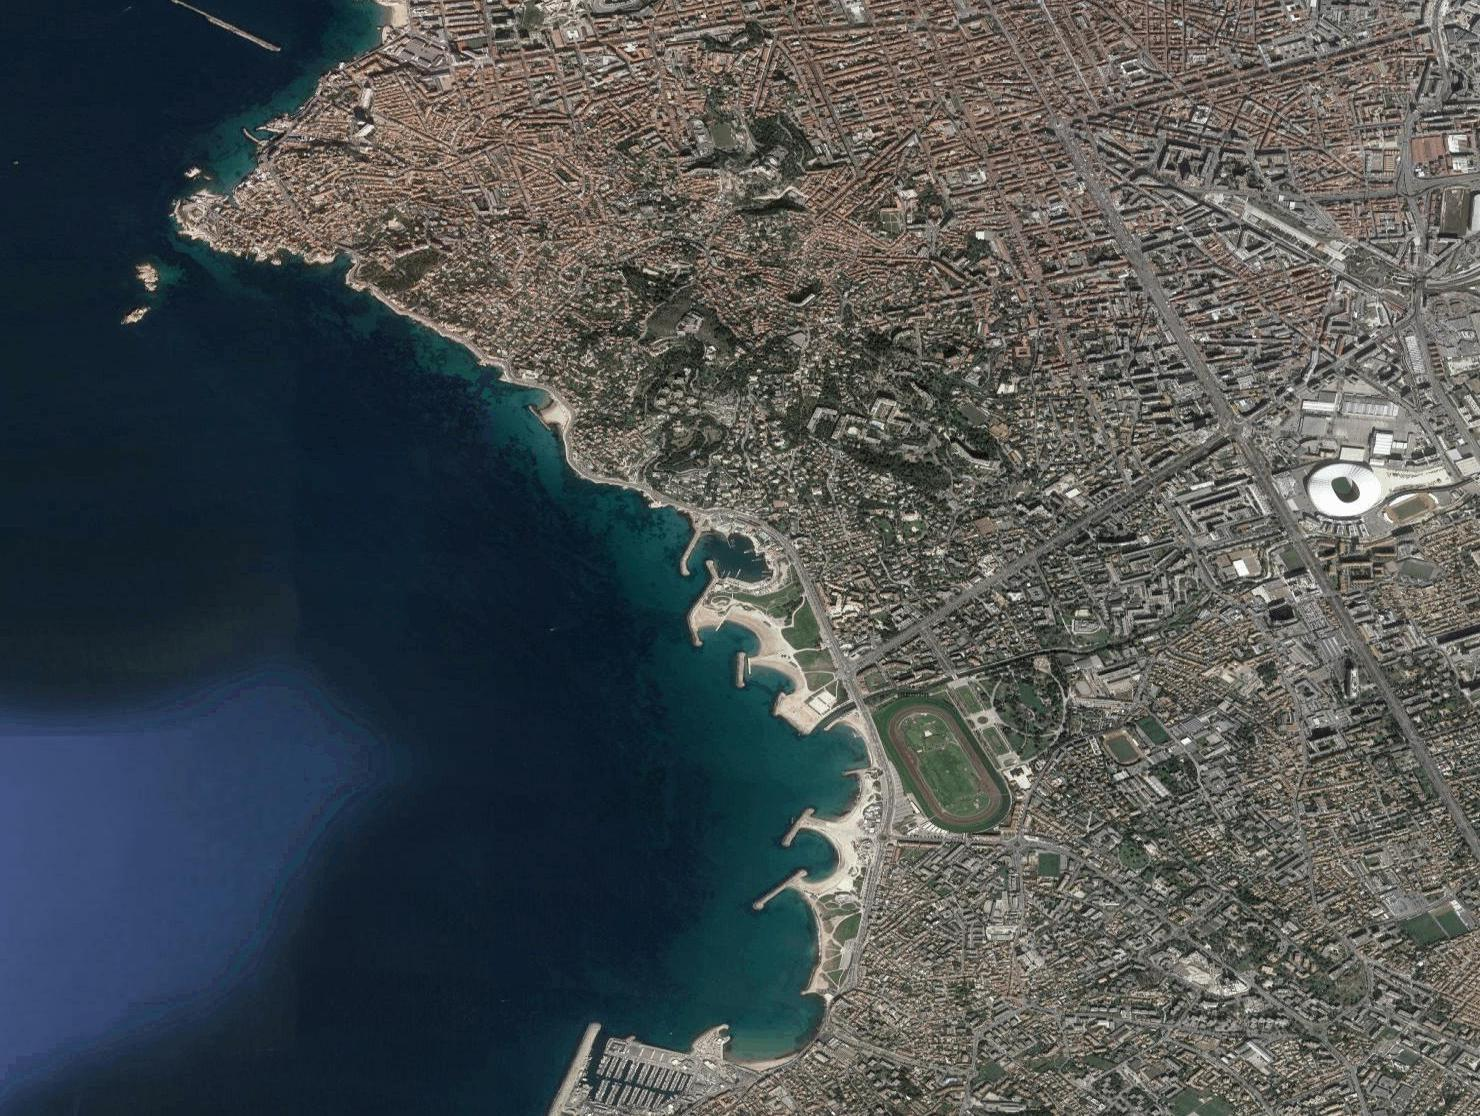harbor: (514, 1030, 765, 1116), (669, 506, 787, 620)
motorway: (853, 815, 896, 935), (819, 631, 874, 719), (784, 535, 828, 631), (857, 717, 896, 815)
